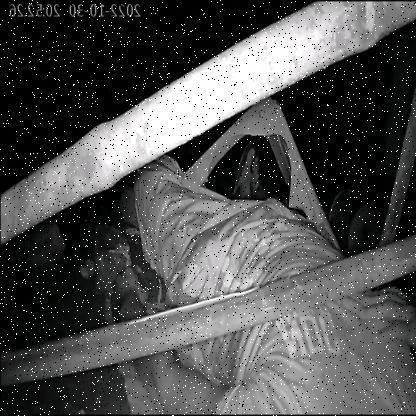hand: (109, 266, 153, 321)
leg: (224, 144, 266, 195)
